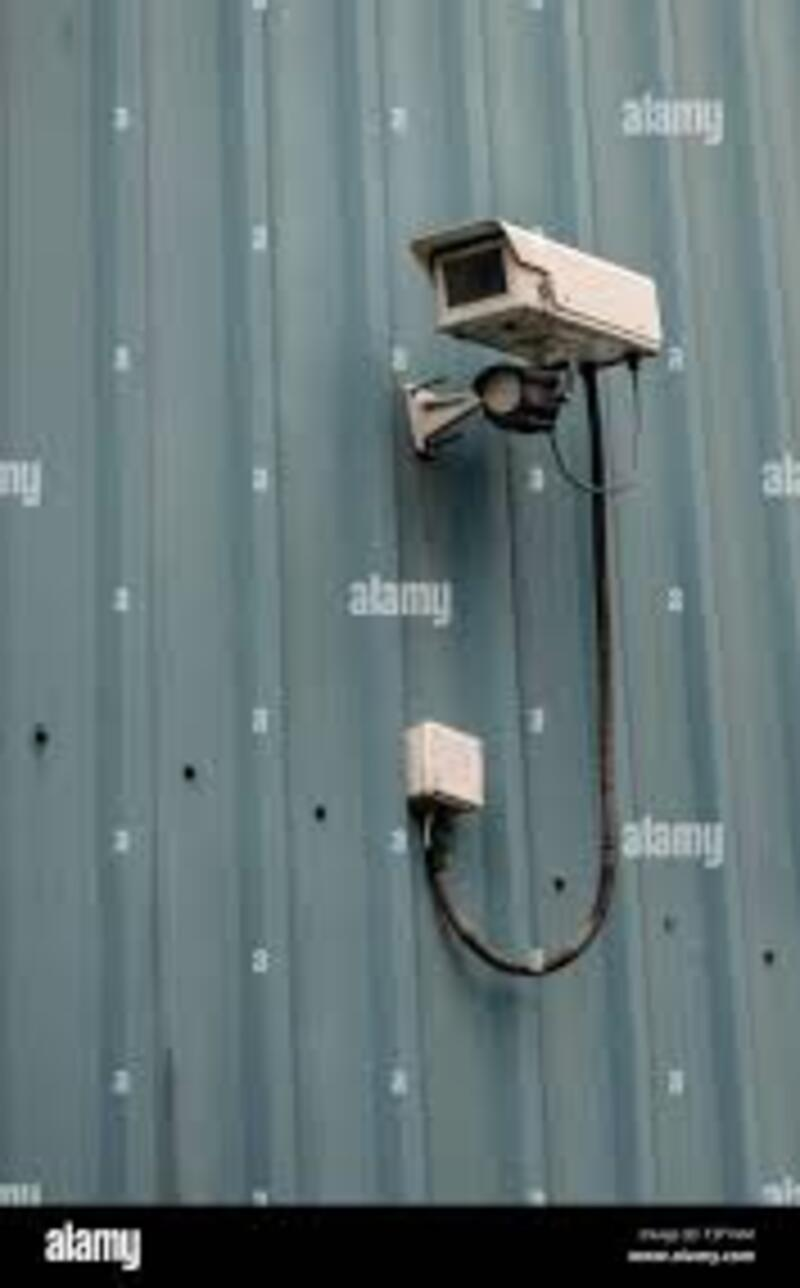box: (400, 221, 683, 380)
